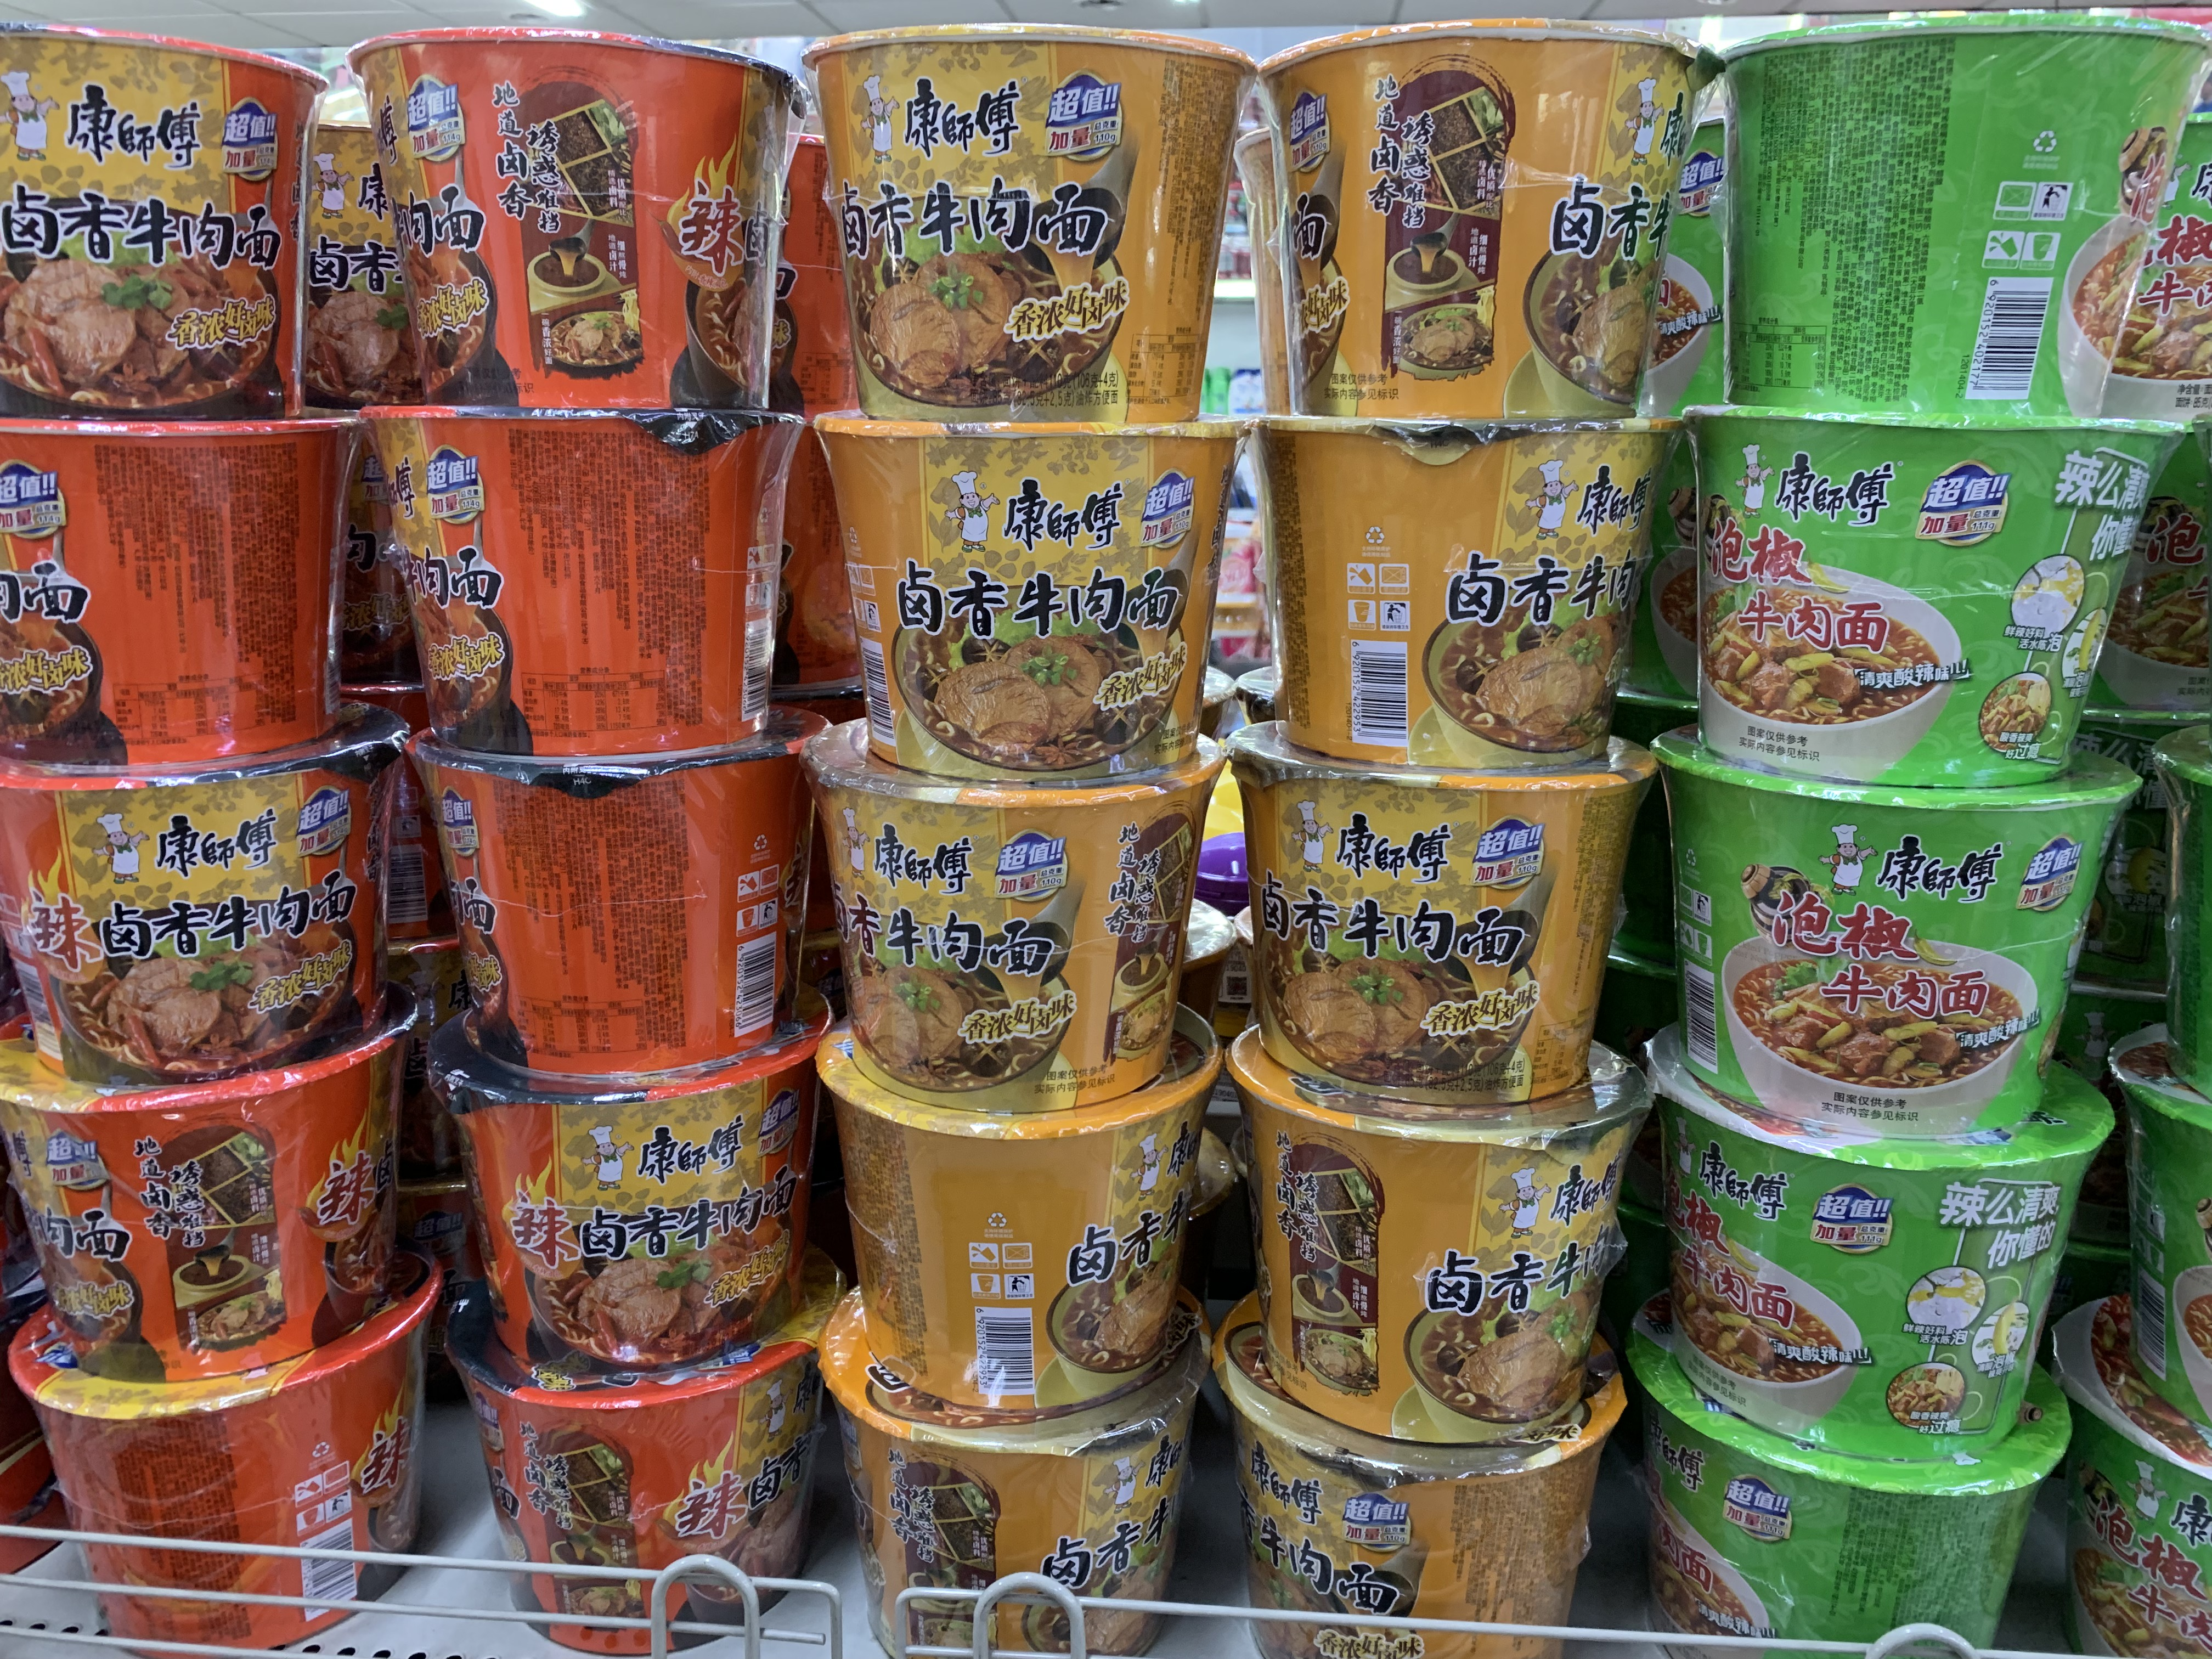luxiang: (1256, 19, 1731, 422), (799, 21, 1263, 422), (803, 413, 1256, 789), (1228, 1079, 1660, 1450), (1233, 744, 1662, 1112), (1249, 415, 1679, 772), (810, 1068, 1223, 1415), (813, 782, 1231, 1119), (812, 1345, 1214, 1659), (1217, 1377, 1625, 1659)
